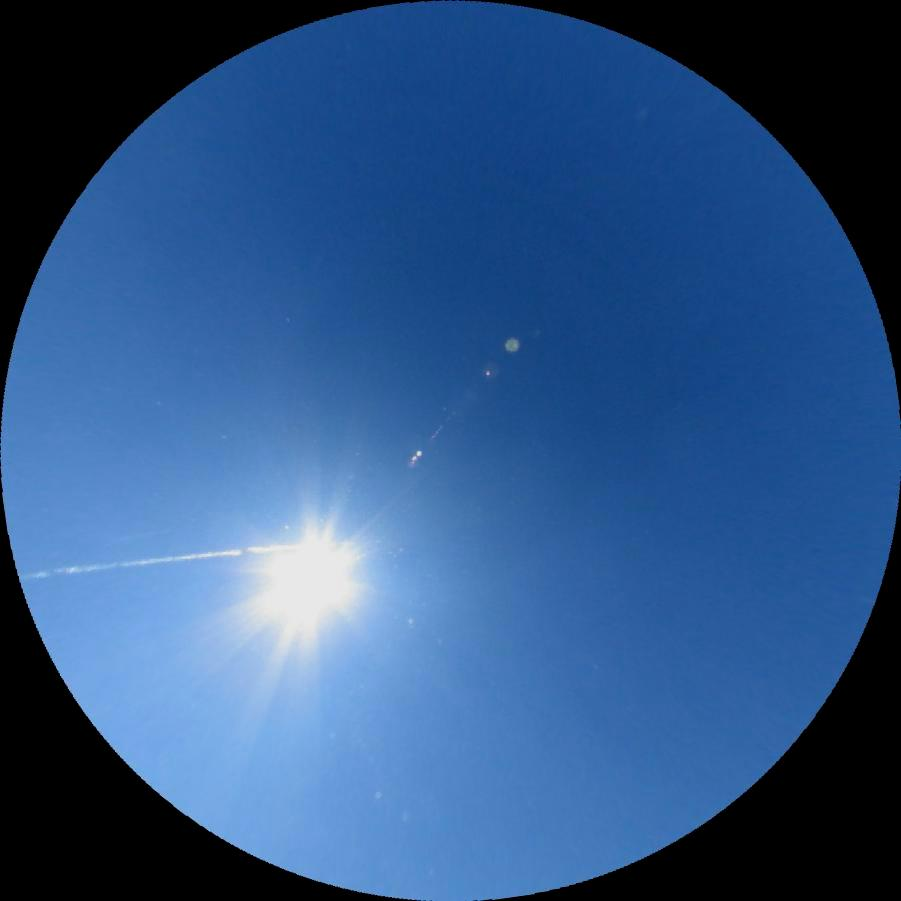contrail young: (659, 398, 687, 418)
parasite: (18, 546, 244, 577), (243, 546, 284, 554)
sun: (236, 509, 374, 646)
